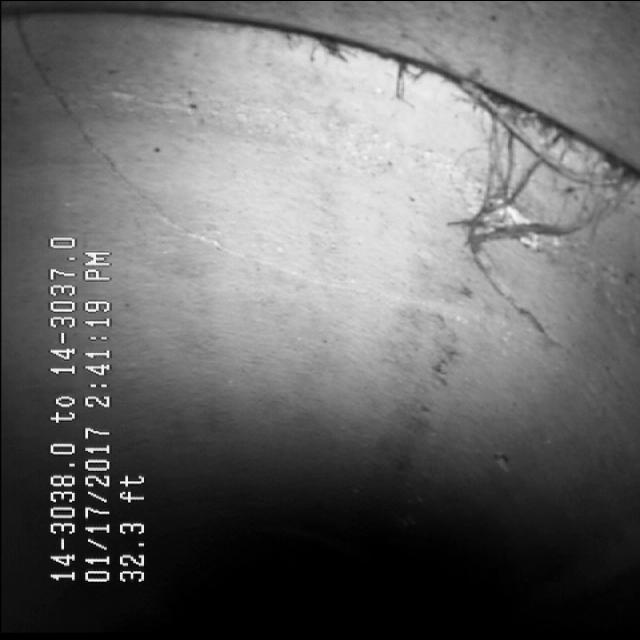Crack: (44, 118, 362, 285)
